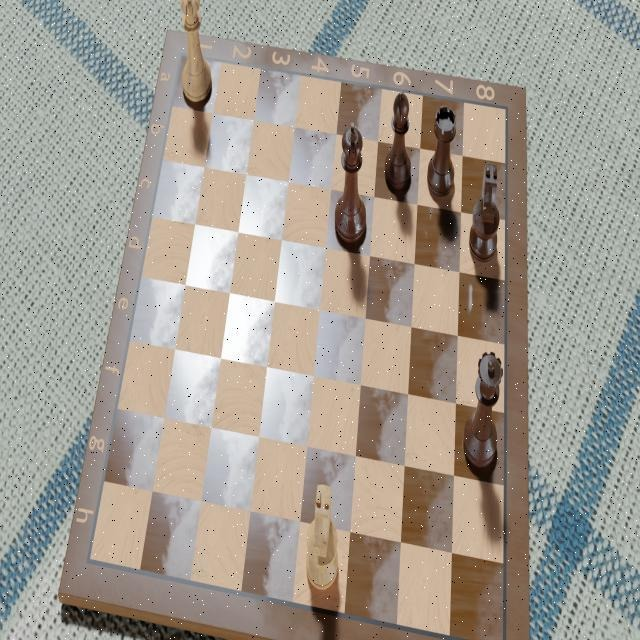black-bishop: (383, 88, 413, 191)
black-king: (333, 120, 366, 248)
black-knight: (468, 161, 500, 263)
black-queen: (464, 350, 504, 473)
black-rook: (427, 104, 457, 197)
white-king: (180, 0, 212, 104)
white-knight: (304, 483, 339, 591)
